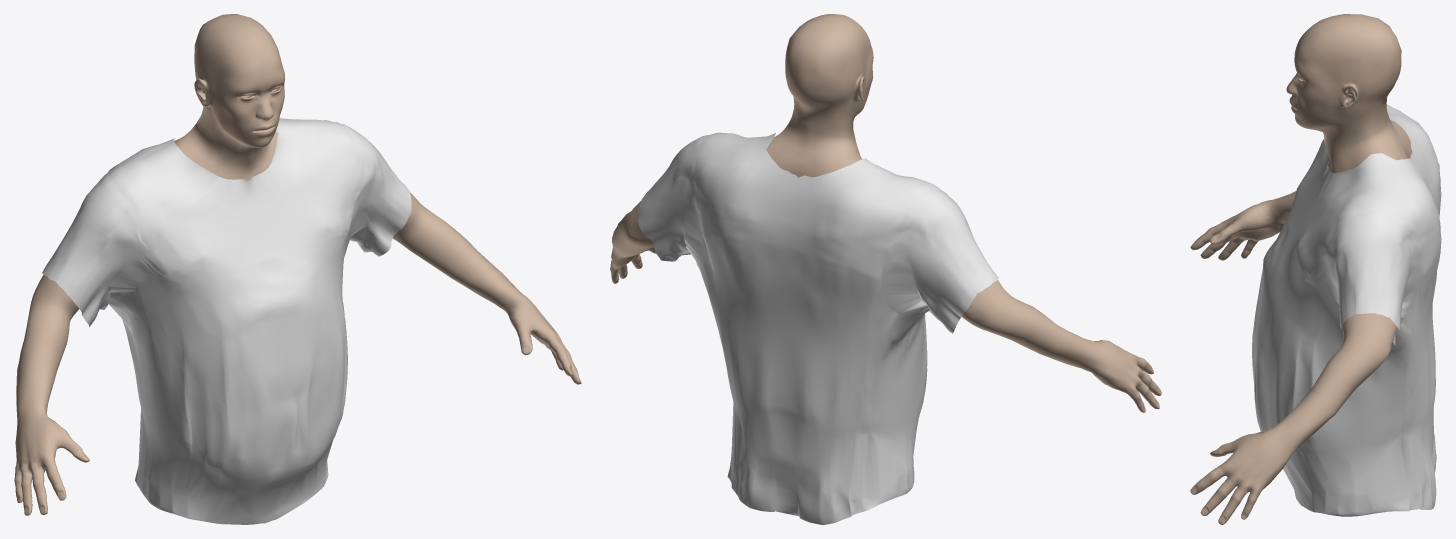
3 renders of one model, left to right at view 1: azimuth 30°, elevation 25°; view 2: azimuth 150°, elevation 25°; view 3: azimuth 270°, elevation 25°, orthographic. The views are drawn at different scales.
Parts seen in each view (by area): view 1: Cube, Base; view 2: Cube, Base; view 3: Cube, Base.
Part boxes in pixels (bbox=[...]): Cube: bbox=[42, 118, 411, 524]; Base: bbox=[14, 14, 581, 515]; Cube: bbox=[638, 132, 999, 524]; Base: bbox=[610, 14, 1161, 412]; Cube: bbox=[1252, 104, 1441, 516]; Base: bbox=[1190, 14, 1412, 524].
Bounding box in the file's own units: 10.56 × 8.79 × 4.21.
